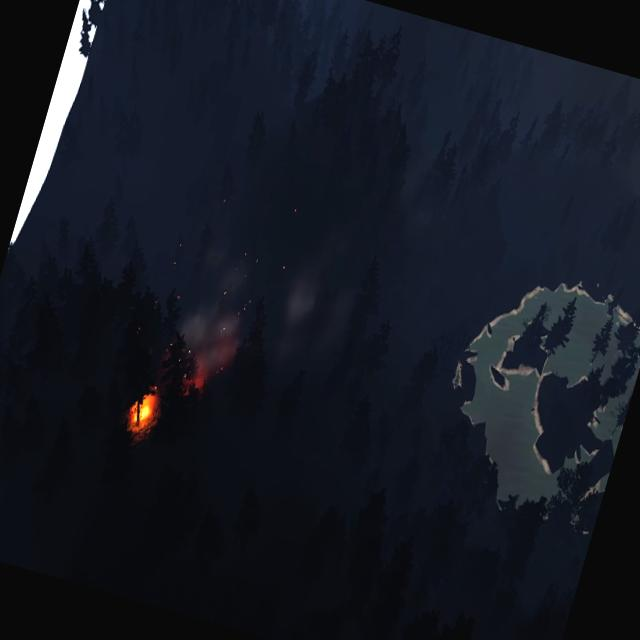fire: (130, 391, 158, 424)
smoke: (150, 116, 296, 412), (257, 230, 372, 392)
